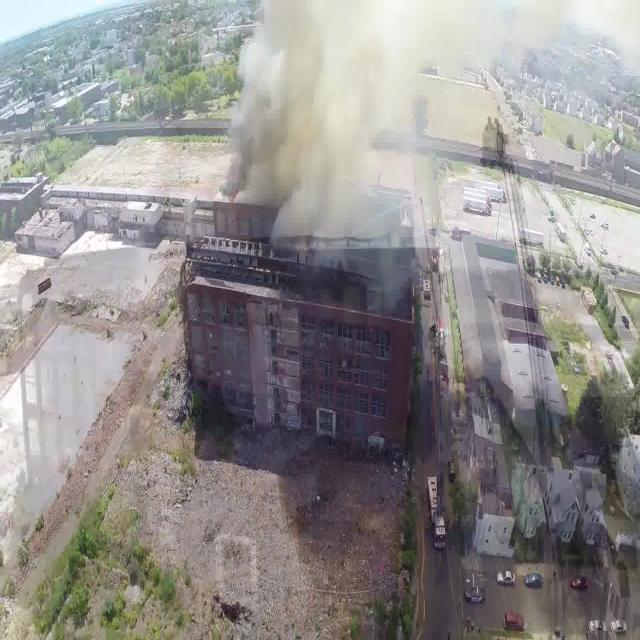smoke: (240, 4, 480, 235)
